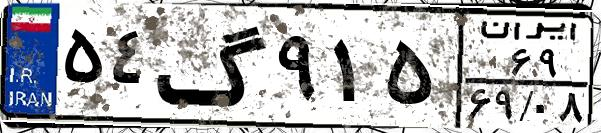0: (535, 70, 560, 125)
1: (330, 28, 385, 110)
4: (110, 28, 156, 98)
5: (385, 28, 445, 110), (57, 26, 110, 100)
6: (508, 27, 537, 80), (470, 70, 495, 125)
8: (560, 70, 590, 125)
9: (270, 28, 330, 110), (537, 27, 568, 80), (495, 70, 520, 125)
گ: (156, 12, 270, 120)
